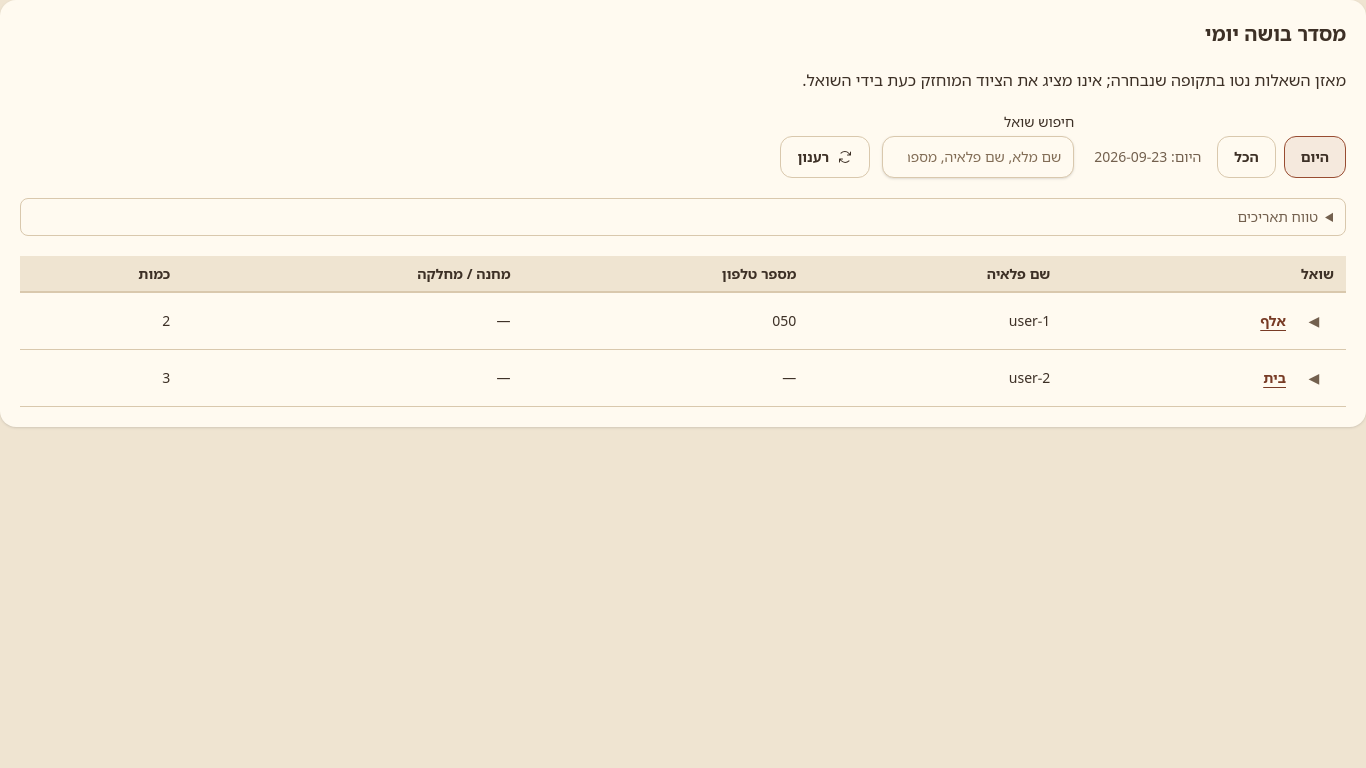
Scenario: period summary view › keeps a custom range fixed even when its dates happen to match today
The width and height of the screenshot is (1366, 768).
Expected: the button "אלף" is shown, [1260,301,1286,341]
Click the heading "טווח תאריכים" at [1278, 216], box [1238,207,1318,226]
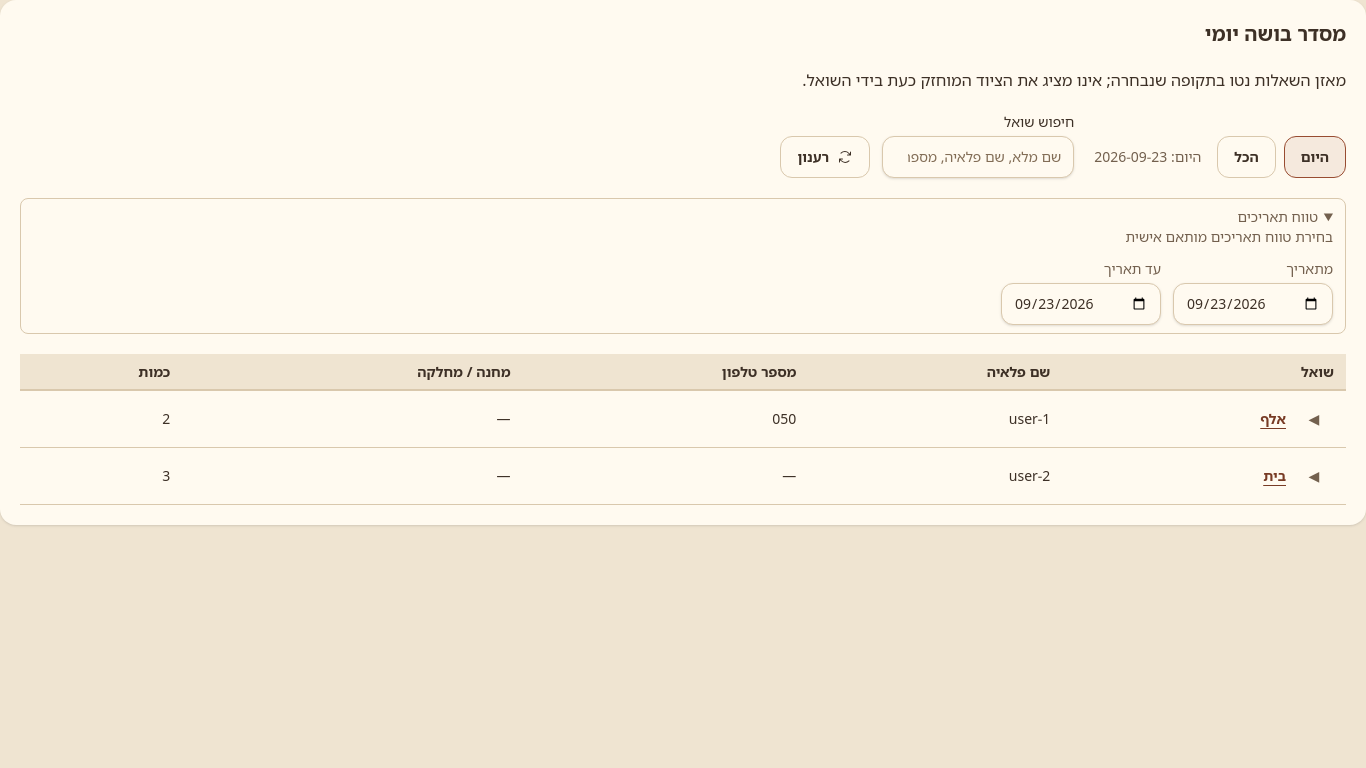
Type "2026-09-22" into the date field labelled "מתאריך" at [1253, 304], box [1173,283,1333,325]
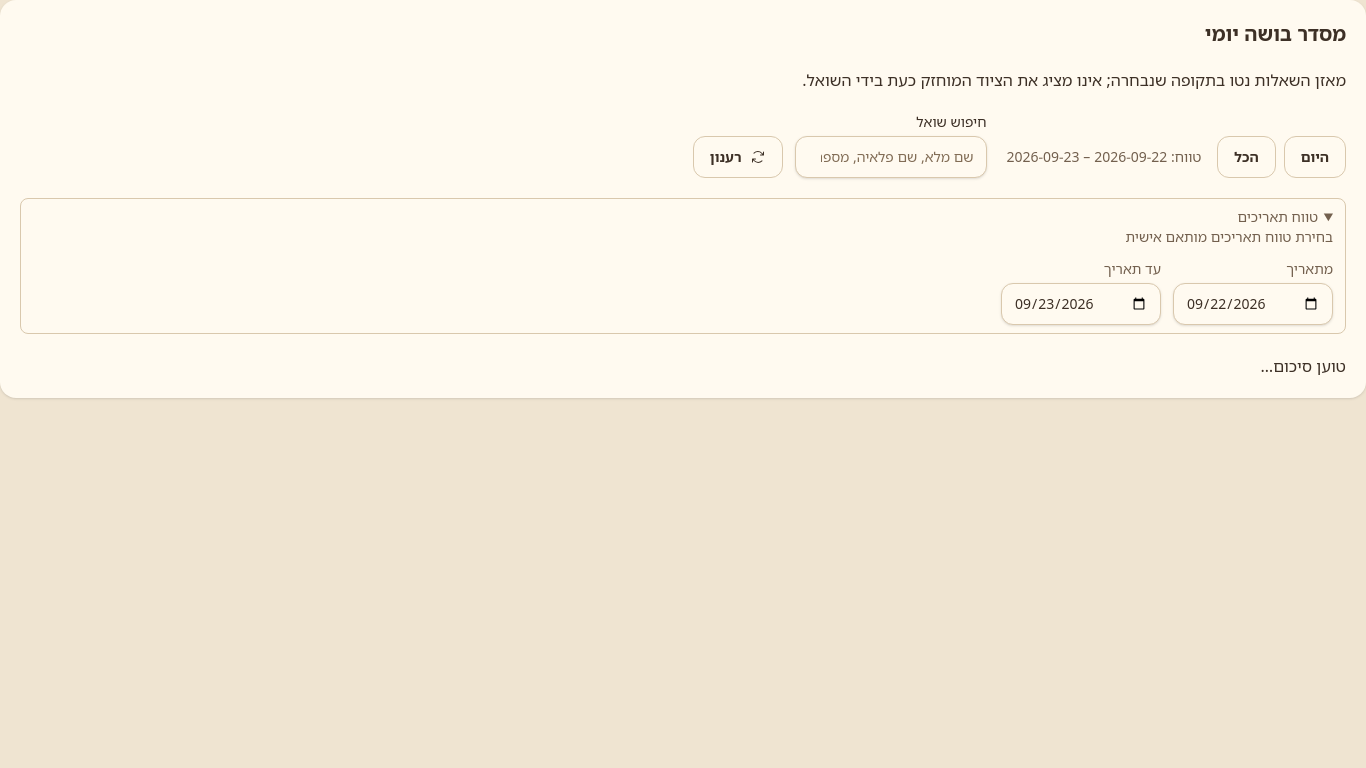
Type "2026-09-23" into the date field labelled "מתאריך" at [1253, 304], box [1173,283,1333,325]
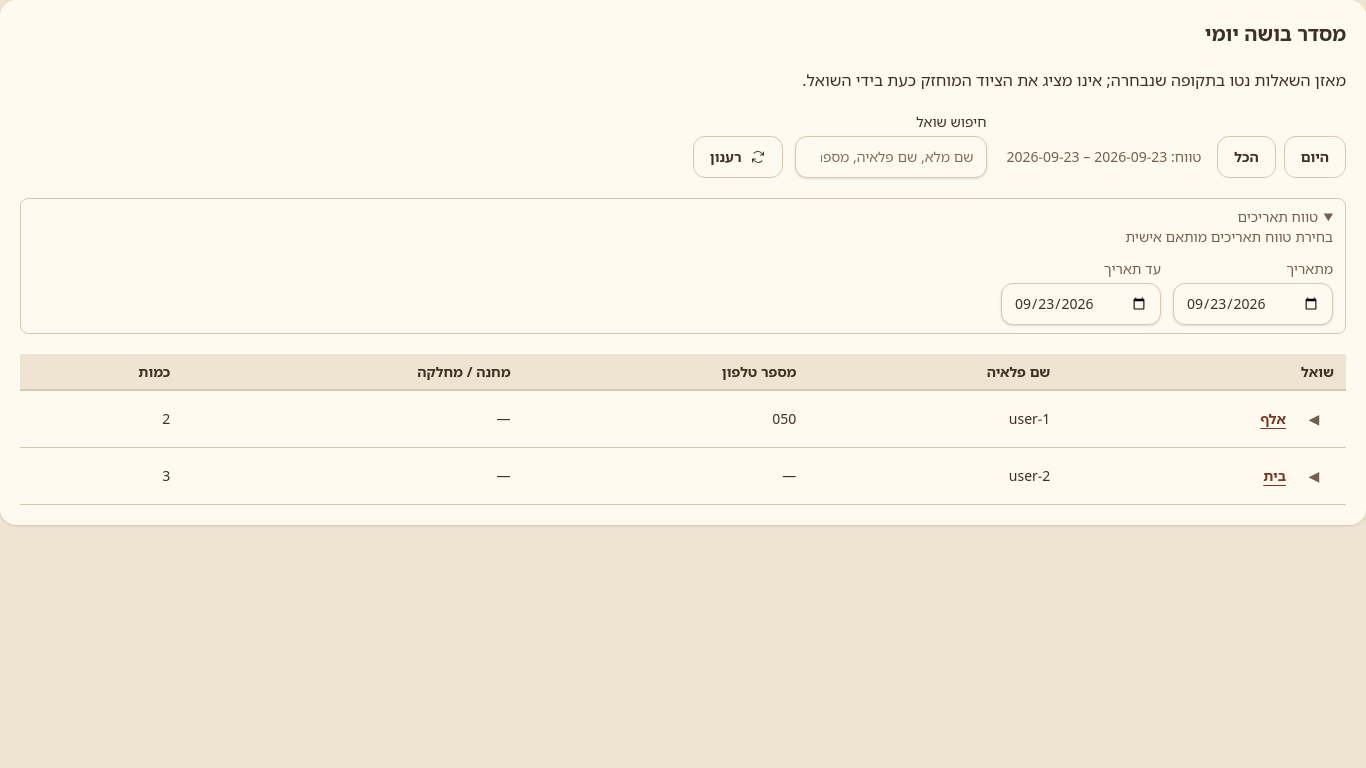
Now the date field labelled "עד תאריך" holds "2026-09-23", box [1001,283,1161,325]
Now the button "אלף" is shown, box [1260,399,1286,439]
